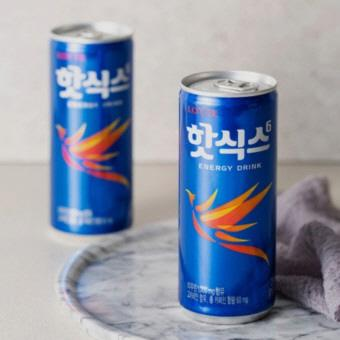hotsix_org: (177, 66, 283, 328)
